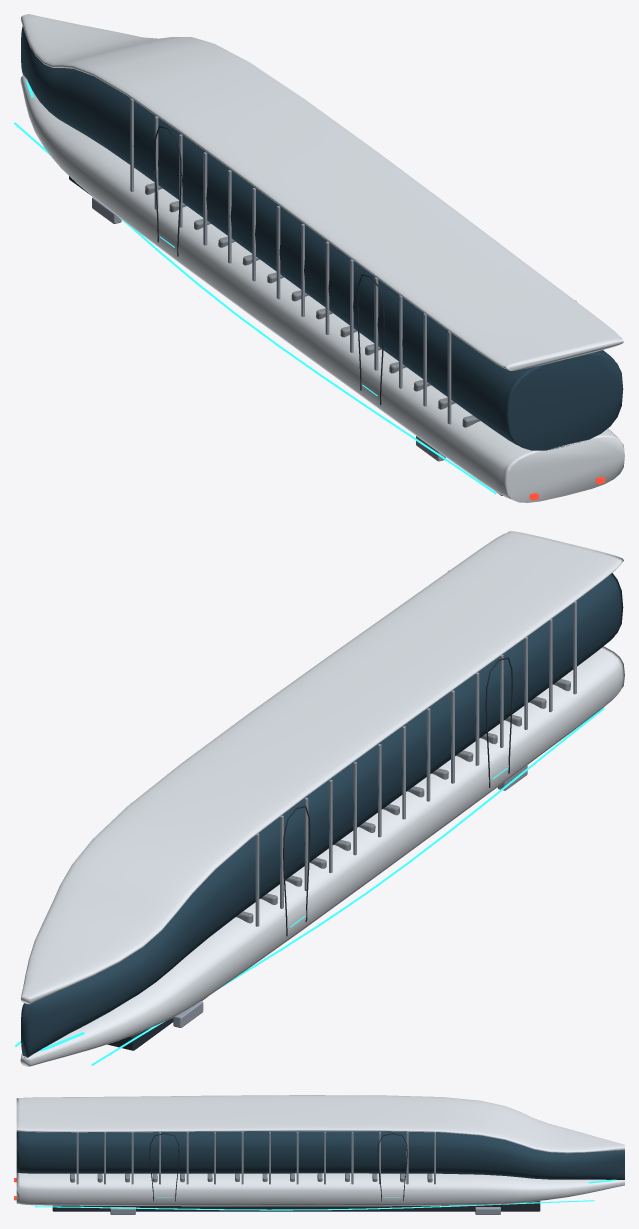
The model's file is orion_regional_cab.gltf.
The picture shows the model from 3 angles, top to bottom: view 1: azimuth 30°, elevation 25°; view 2: azimuth 150°, elevation 25°; view 3: azimuth 270°, elevation 25°; orthographic projection. The views are drawn at different scales.
Parts seen in each view (by area): view 1: orion_regional_cab; view 2: orion_regional_cab; view 3: orion_regional_cab.
Part boxes in pixels (x1=…): orion_regional_cab: x1=14, y1=14, x2=624, y2=502; orion_regional_cab: x1=15, y1=531, x2=624, y2=1066; orion_regional_cab: x1=14, y1=1095, x2=624, y2=1214.
Size of the model in its own units: 3.49 by 4.16 by 25.11.
